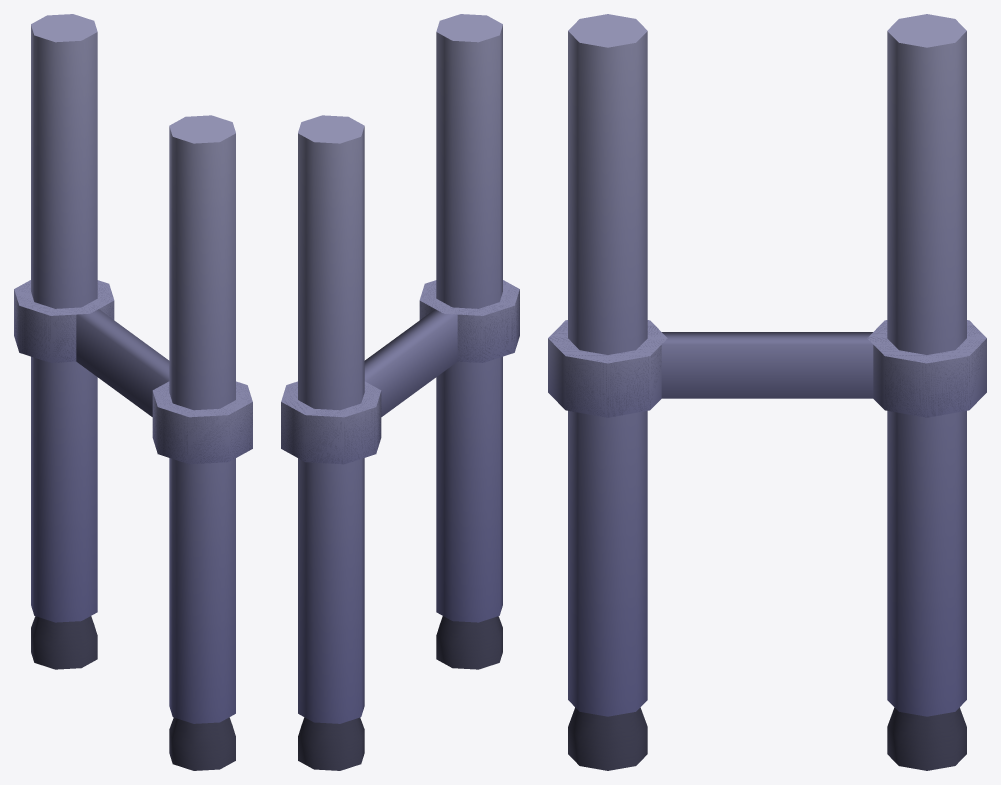
File: kenney-factory-structure-tall.glb
3 renders of one model, left to right at view 1: azimuth 30°, elevation 25°; view 2: azimuth 150°, elevation 25°; view 3: azimuth 270°, elevation 25°, orthographic. The views are drawn at different scales.
Visible parts, largest first — view 1: structure-tall; view 2: structure-tall; view 3: structure-tall.
Part boxes in pixels (x1,y1,x2,y2): structure-tall: [14, 14, 252, 770]; structure-tall: [281, 14, 519, 770]; structure-tall: [548, 14, 986, 770].
Bounding box in the file's own units: 0.45 × 3 × 1.65.
Materials: 1 (1 with a texture image).
